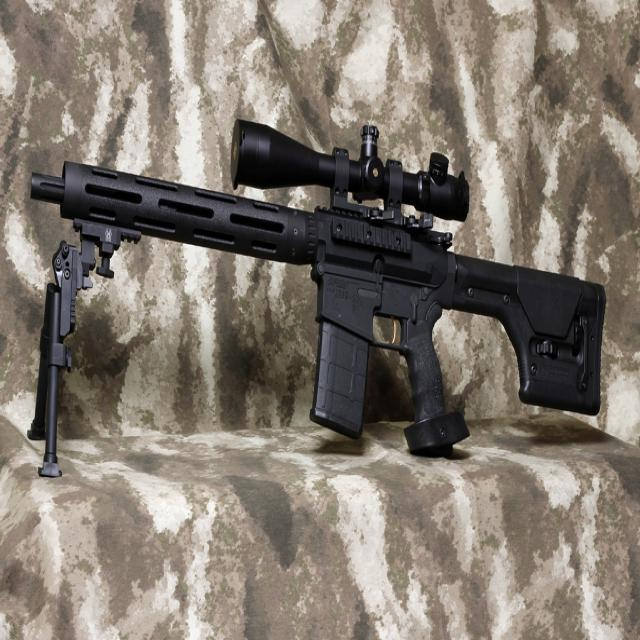Rifle: (29, 120, 607, 455)
